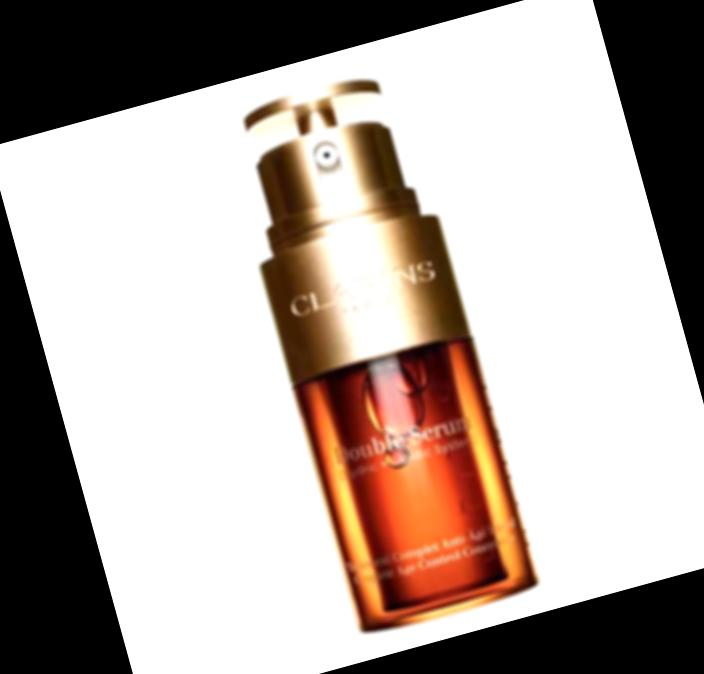cosmetic: (208, 57, 542, 635)
